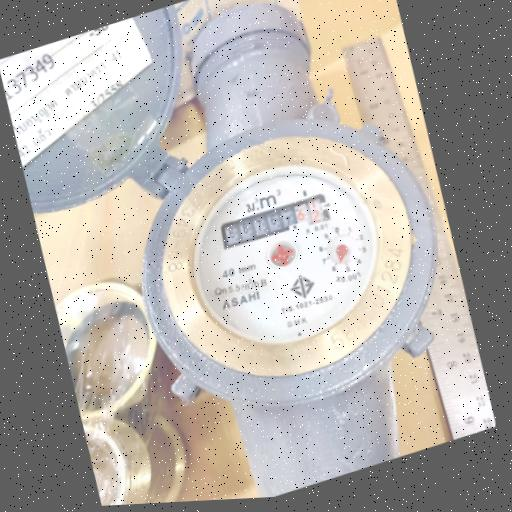2: (308, 198, 324, 223)
6: (265, 210, 282, 231), (224, 224, 240, 244), (293, 202, 309, 222)
7: (251, 215, 267, 236), (280, 206, 295, 227)
8: (239, 219, 254, 240)
border_water_meter_number: (218, 190, 332, 252)
